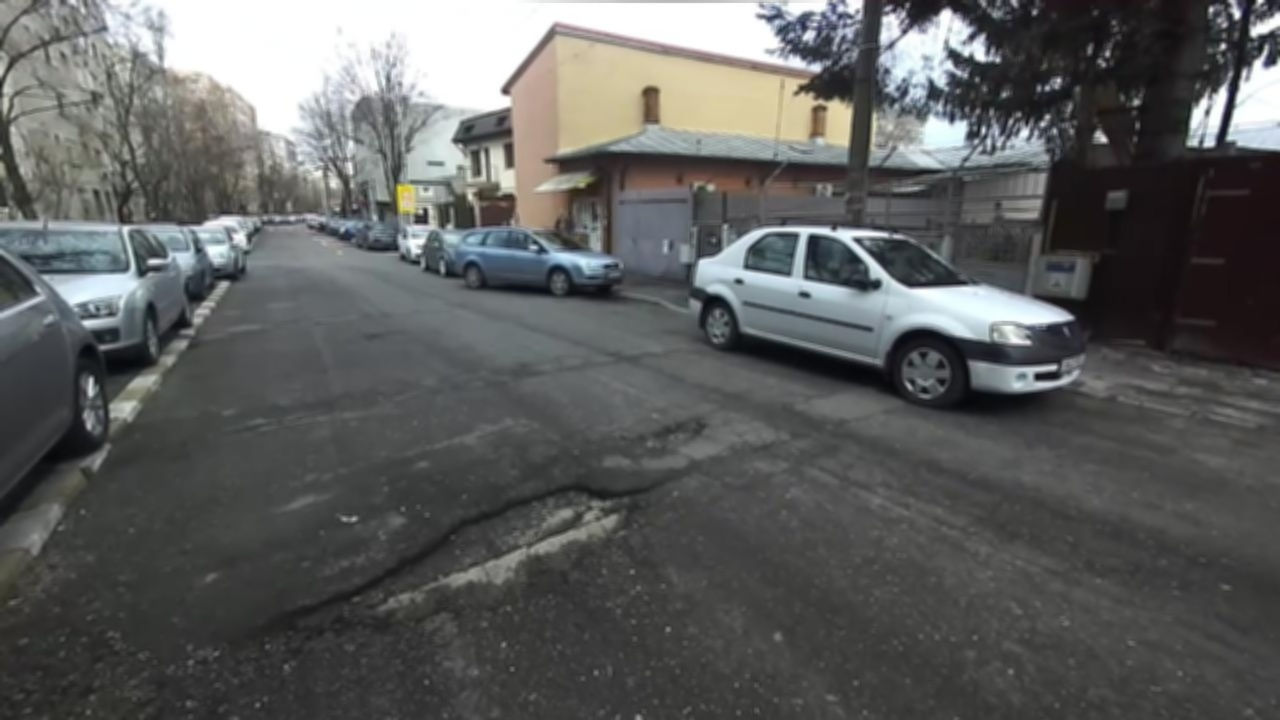pothole: (258, 476, 674, 641), (610, 411, 714, 451), (226, 405, 329, 436)
